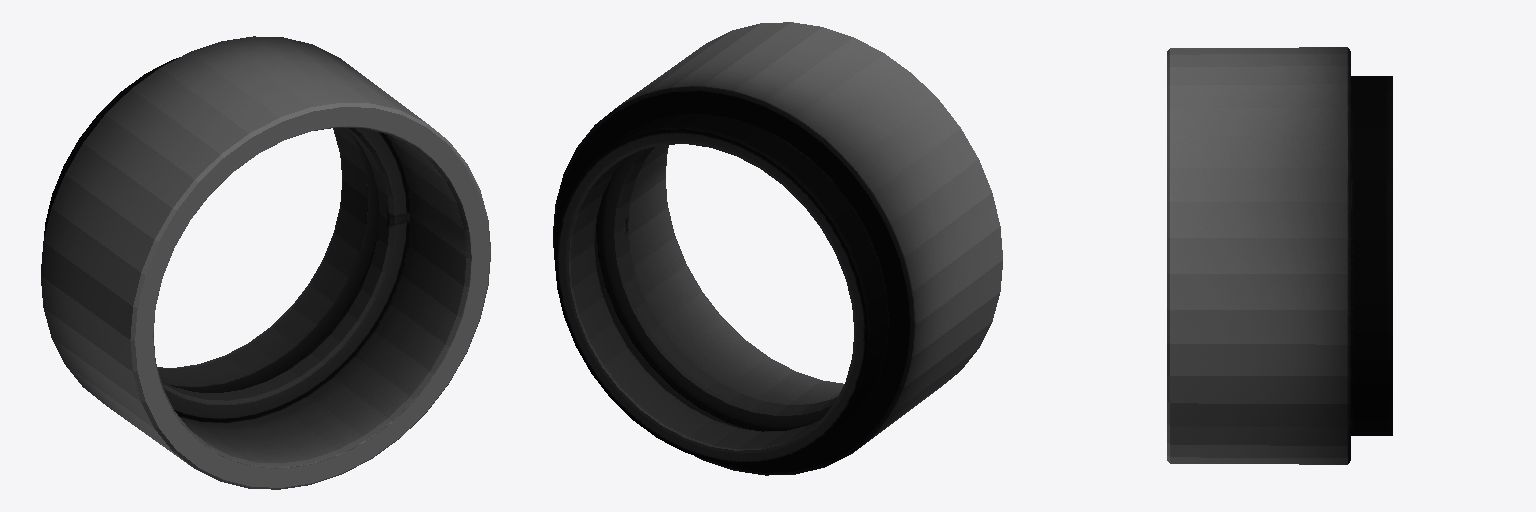
3 views of the same model, side by side, from view 1: azimuth 30°, elevation 25°; view 2: azimuth 150°, elevation 25°; view 3: azimuth 270°, elevation 25° (orthographic).
Visible parts, largest first — view 1: pCylinder189 group165; view 2: pCylinder189 group165; view 3: pCylinder189 group165.
Part boxes in pixels (x1,y1,x2,y2): pCylinder189 group165: (41, 36, 490, 489); pCylinder189 group165: (553, 22, 1002, 475); pCylinder189 group165: (1167, 47, 1392, 464).
Bounding box in the file's own units: 30.57 × 30.57 × 16.5.
1 materials, 1 textured.